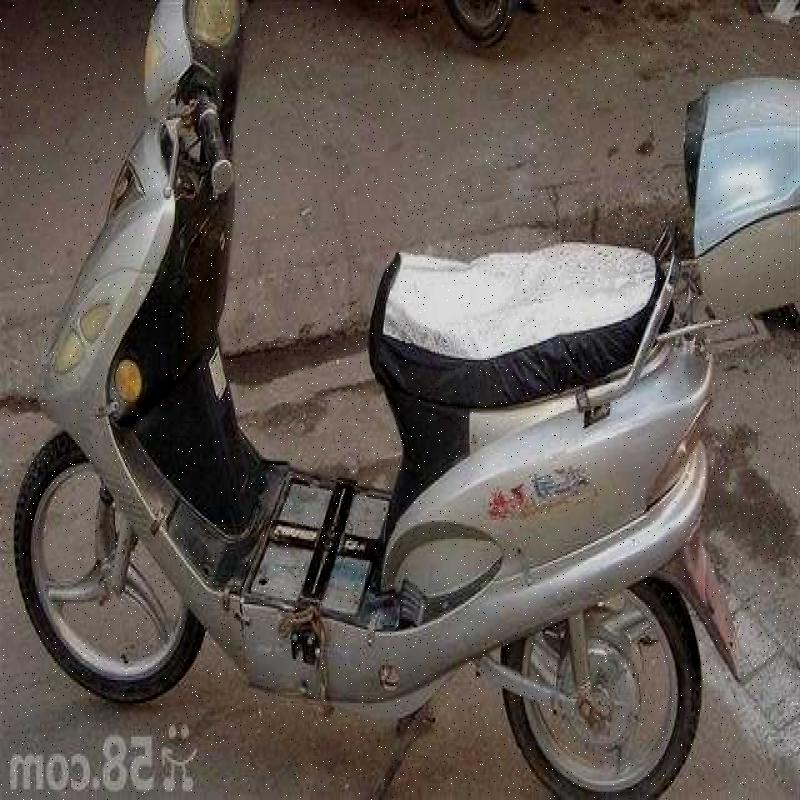bike: (0, 12, 727, 800)
